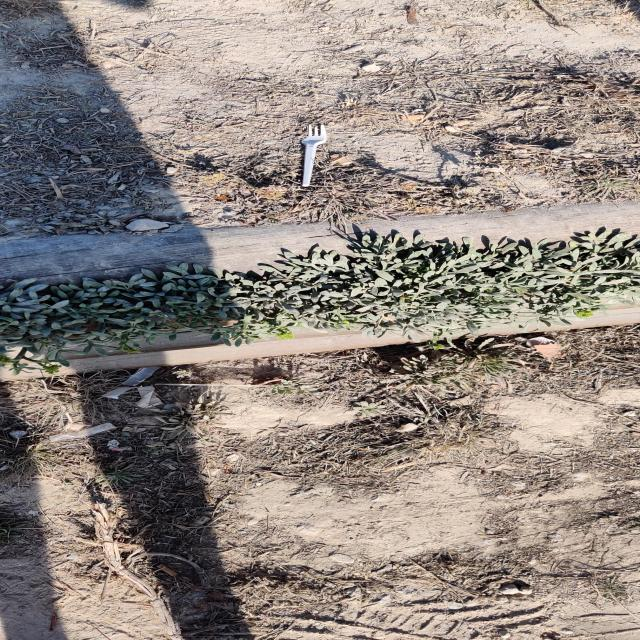litter: (300, 124, 327, 186)
